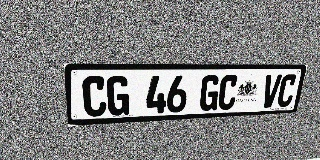4: (146, 75, 168, 114)
6: (166, 75, 189, 113)
C: (82, 76, 107, 117), (217, 75, 239, 110), (276, 74, 298, 107)
G: (107, 76, 130, 116), (199, 75, 221, 111)
V: (260, 74, 282, 108)
